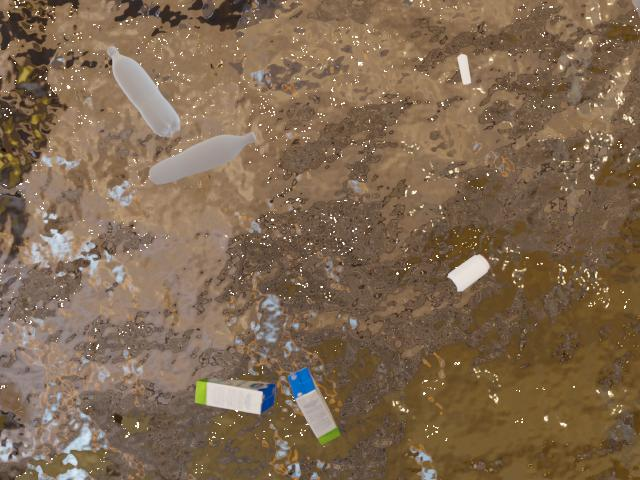Metal: (432, 250, 502, 300), (443, 48, 478, 101)
Plastic: (92, 41, 194, 140), (139, 120, 267, 194)
Trash: (169, 366, 276, 420), (285, 361, 346, 448)
